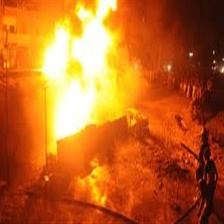fire: (39, 2, 117, 136)
